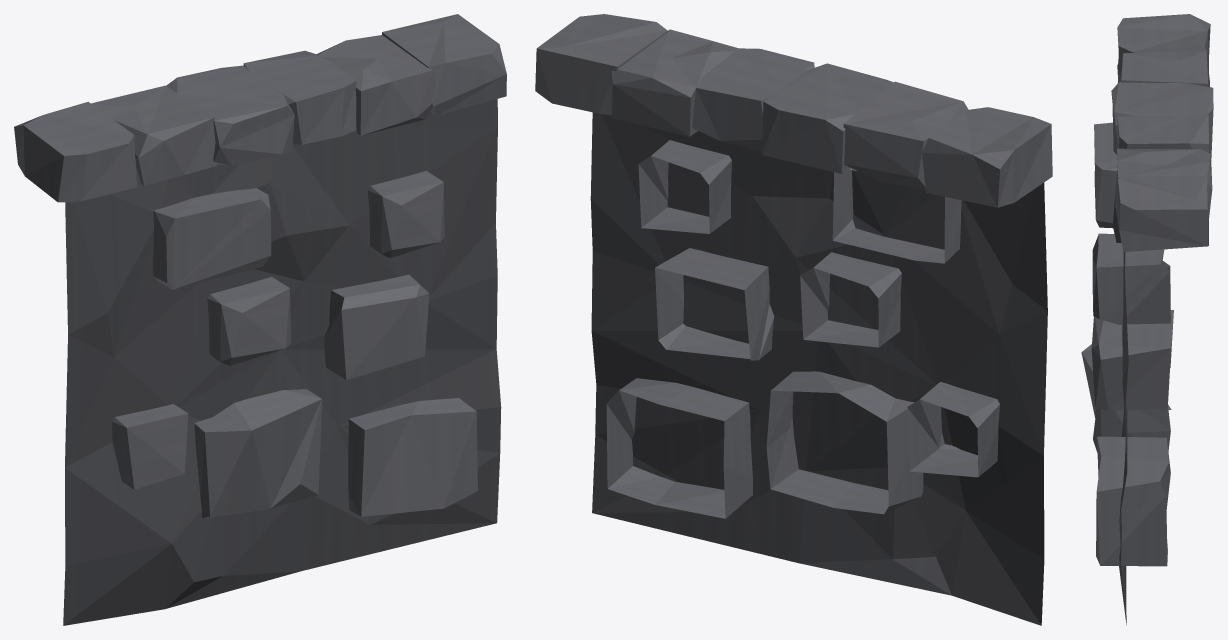
File: Wall_2A.fbx
3 views of the same model, side by side, from view 1: azimuth 30°, elevation 25°; view 2: azimuth 150°, elevation 25°; view 3: azimuth 270°, elevation 25° (orthographic). The views are drawn at different scales.
Parts seen in each view (by area): view 1: polySurface10134; view 2: polySurface10134; view 3: polySurface10134.
Boxes of the visible parts, x1,y1,x2,y2 form: polySurface10134: [14, 14, 506, 625]; polySurface10134: [535, 14, 1052, 625]; polySurface10134: [1081, 14, 1213, 625].
Size of the model in its own units: 415 by 424 by 120.
